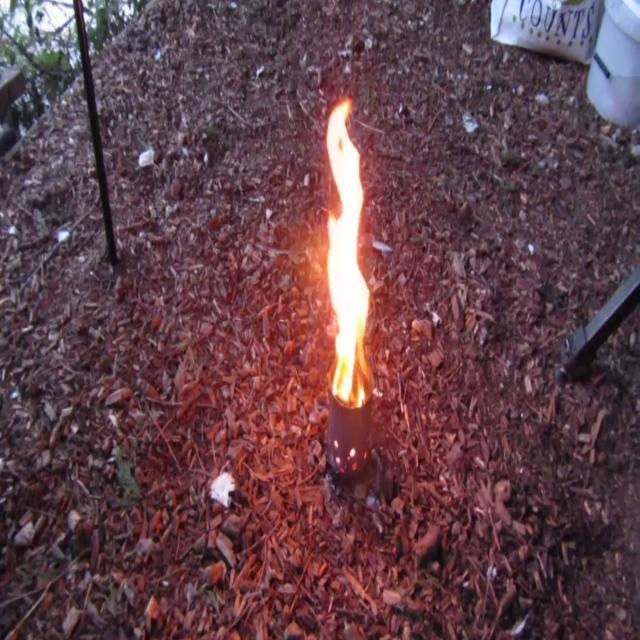Fire: (316, 93, 376, 403)
